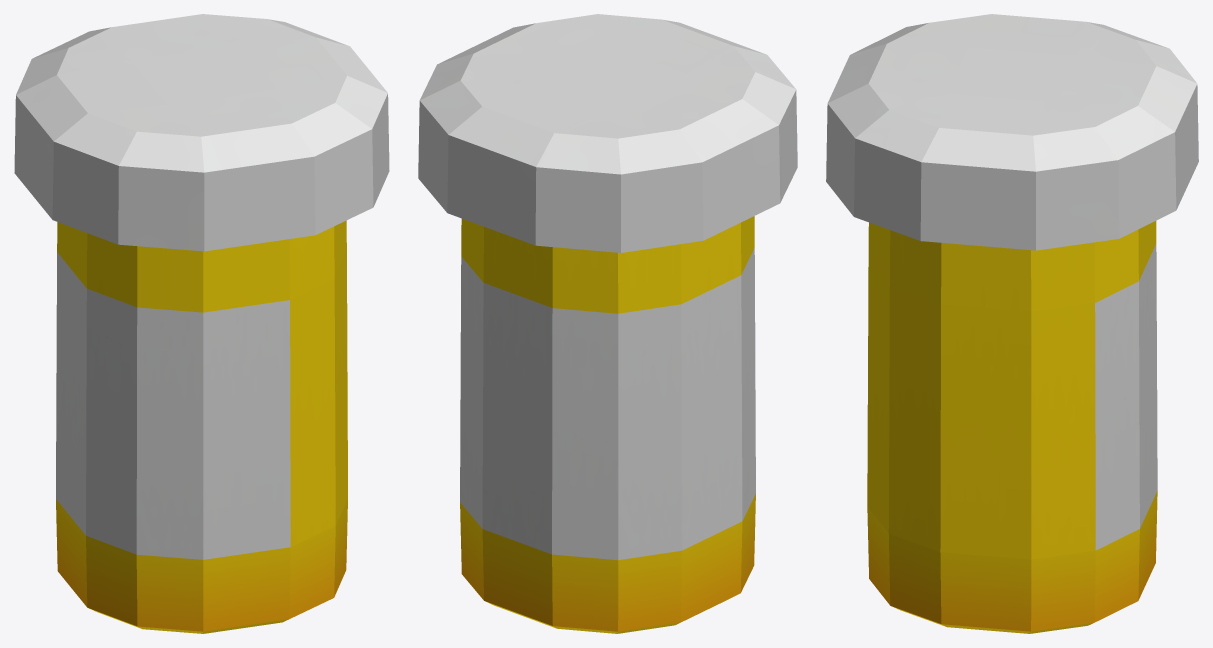
Rendered from medication_bottle.glb.
The picture shows the model from 3 angles, left to right: view 1: azimuth 30°, elevation 25°; view 2: azimuth 150°, elevation 25°; view 3: azimuth 270°, elevation 25°; orthographic projection.
Parts seen in each view (by area): view 1: medication_bottle; view 2: medication_bottle; view 3: medication_bottle.
Boxes of the visible parts, <box> form: medication_bottle: <box>14,14,389,633</box>; medication_bottle: <box>418,14,797,633</box>; medication_bottle: <box>826,14,1198,633</box>.
Size of the model in its own units: 0.056 by 0.0836 by 0.056.
1 material, 1 textured.
